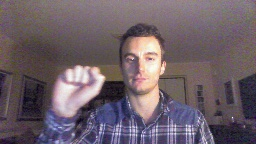Pugno: (47, 64, 106, 120)
